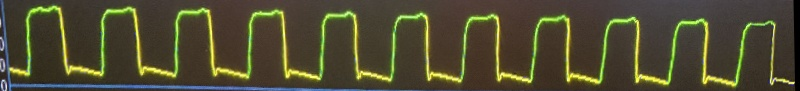normal_pressure: (0, 5, 789, 90)
